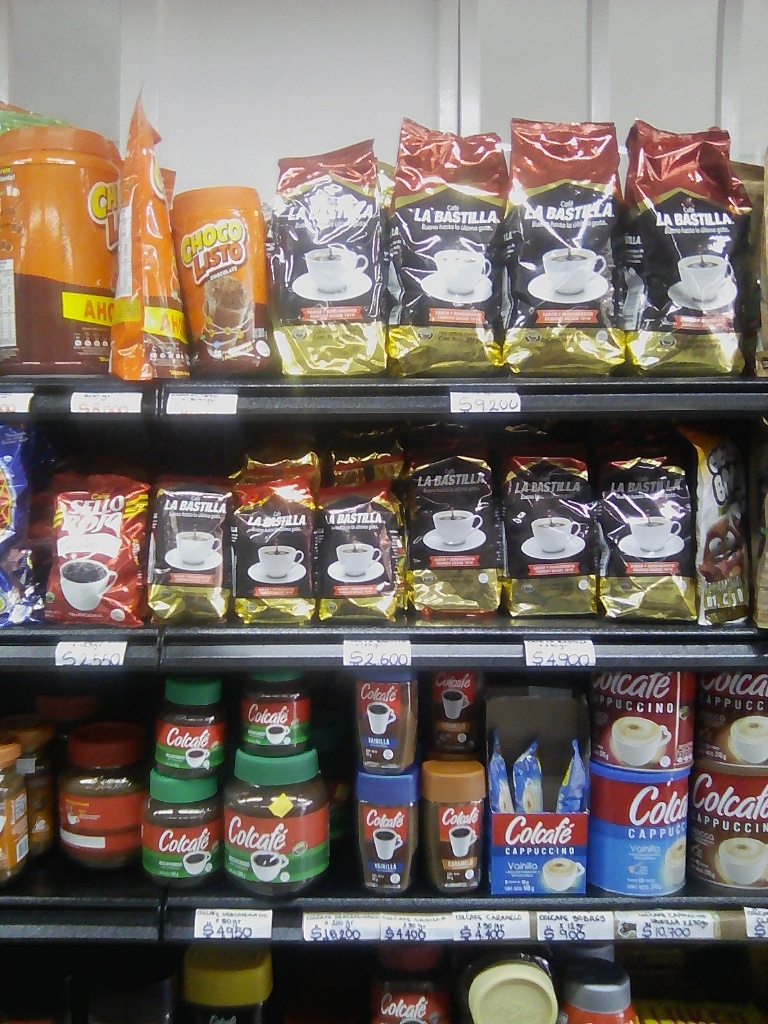COL0170103DYP44000: (114, 100, 193, 385)
COL0170103TRR00100: (1, 125, 116, 377)
